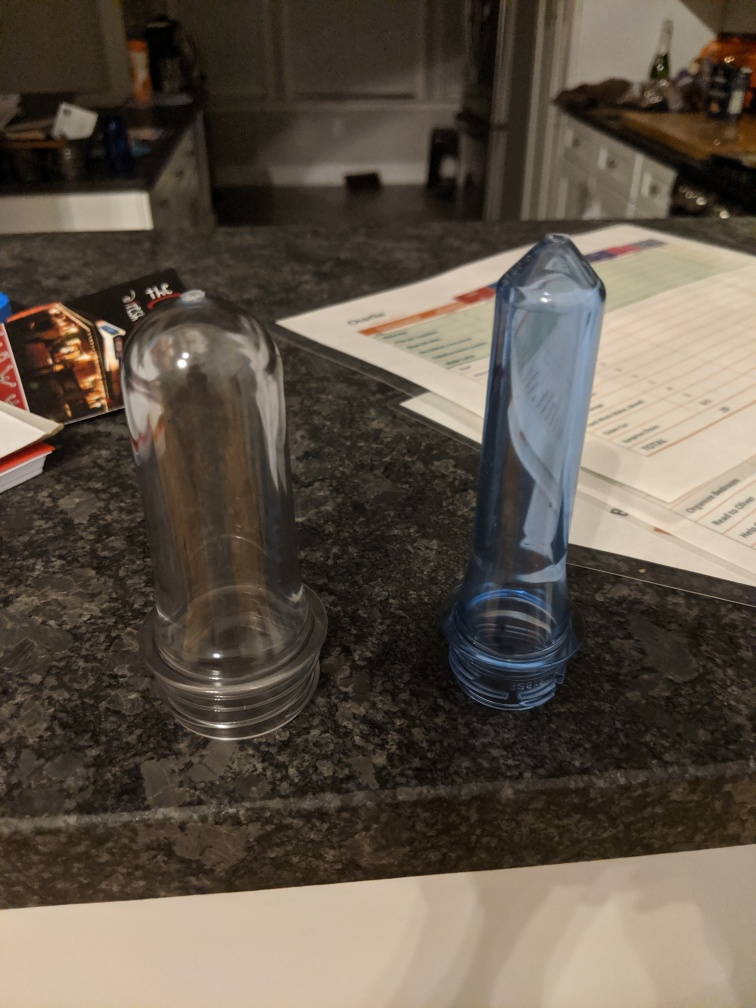preform: (110, 281, 334, 756), (437, 220, 620, 719)
